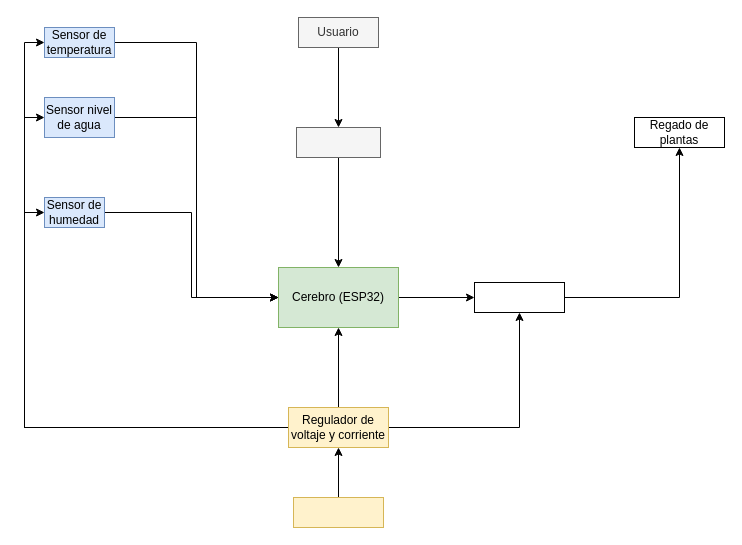
The diagram is 742 pixels wide and 545 high, and some of its shapes have lost their labels. Each missing label, with the centre of its shape:
"Aplicacion android" goes at (x=338, y=142).
"Bomba de agua" goes at (x=519, y=297).
"Conexion directa" goes at (x=338, y=512).
